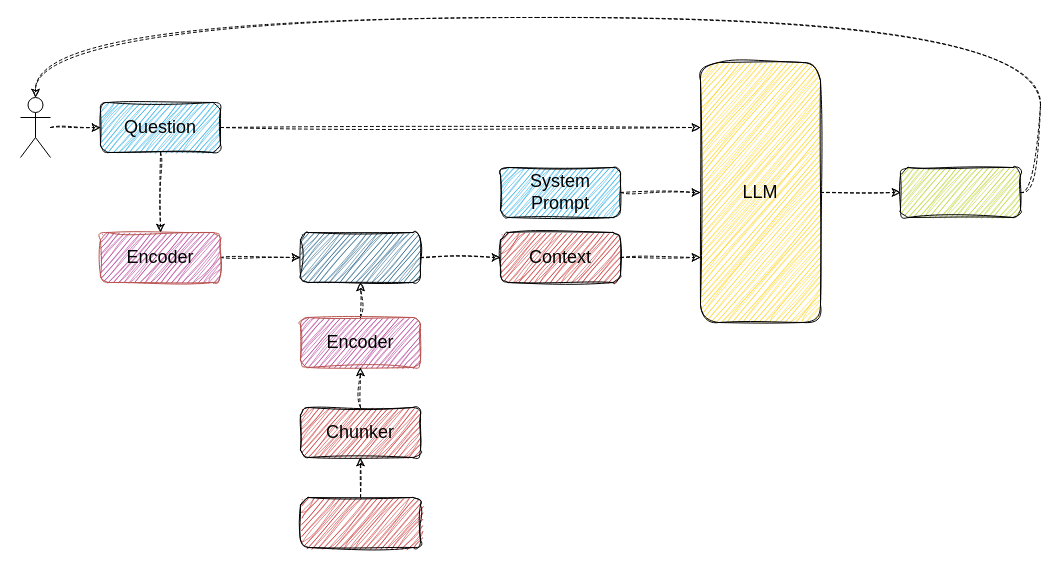
Image size: 1059x566. Some labels were removed from this diagram. The box of each missing label's shape, as (x1, y1, x2, y2) in pixels:
Answer: (900, 166, 1020, 218)
Documents: (300, 496, 420, 548)
User: (20, 96, 50, 158)
Vector database: (300, 232, 420, 282)
